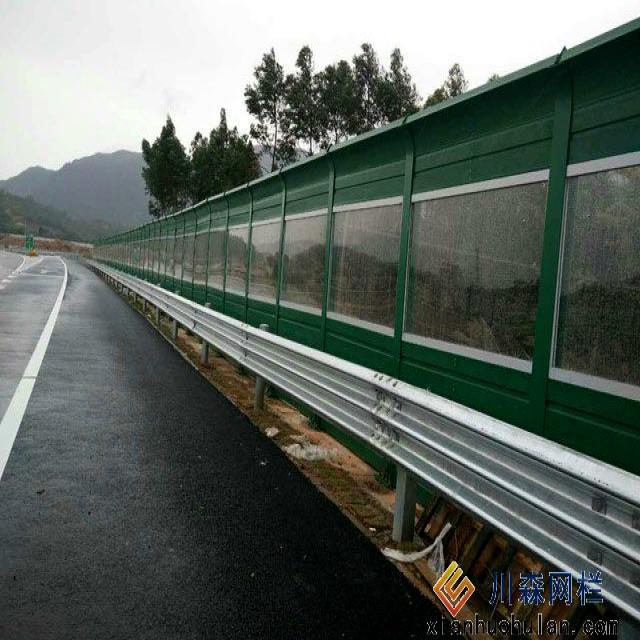Guard rail: (90, 262, 640, 621)
